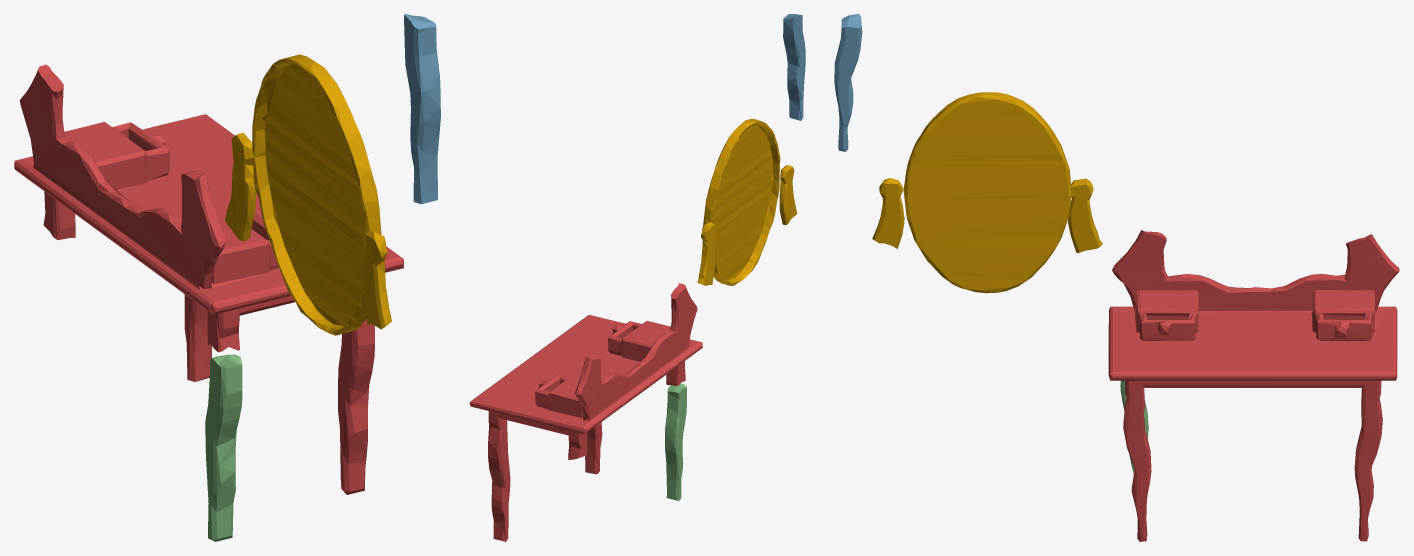
File: mode_4_4pcs_transformed.glb
3 views of the same model, side by side, from view 1: azimuth 30°, elevation 25°; view 2: azimuth 150°, elevation 25°; view 3: azimuth 270°, elevation 25° (orthographic). The views are drawn at different scales.
Parts seen in each view (by area): view 1: piece_1.obj, piece_0.obj, piece_3.obj, piece_2.obj; view 2: piece_1.obj, piece_0.obj, piece_3.obj, piece_2.obj; view 3: piece_1.obj, piece_0.obj, piece_2.obj.
Boxes of the visible parts, x1,y1,x2,y2 form: piece_1.obj: (14,64,403,494); piece_0.obj: (225,54,391,335); piece_3.obj: (205,354,242,541); piece_2.obj: (404,14,440,204); piece_1.obj: (469,283,702,541); piece_0.obj: (697,118,797,285); piece_3.obj: (665,383,686,500); piece_2.obj: (783,14,805,120); piece_1.obj: (1108,230,1399,541); piece_0.obj: (872,92,1102,293); piece_2.obj: (834,14,862,151).
Size of the model in its own units: 0.3649 by 1.2 by 1.27.
